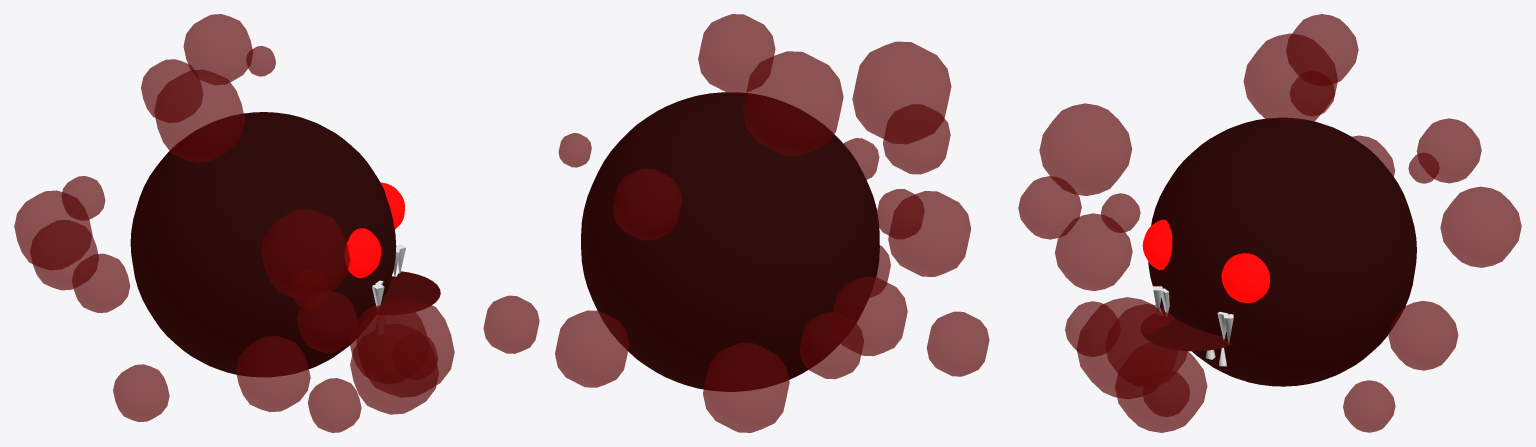
File: monster.glb
3 renders of one model, left to right at view 1: azimuth 30°, elevation 25°; view 2: azimuth 150°, elevation 25°; view 3: azimuth 270°, elevation 25°, orthographic. The views are drawn at different scales.
Bounding box in the file's own units: 1.59 × 1.49 × 1.87.
